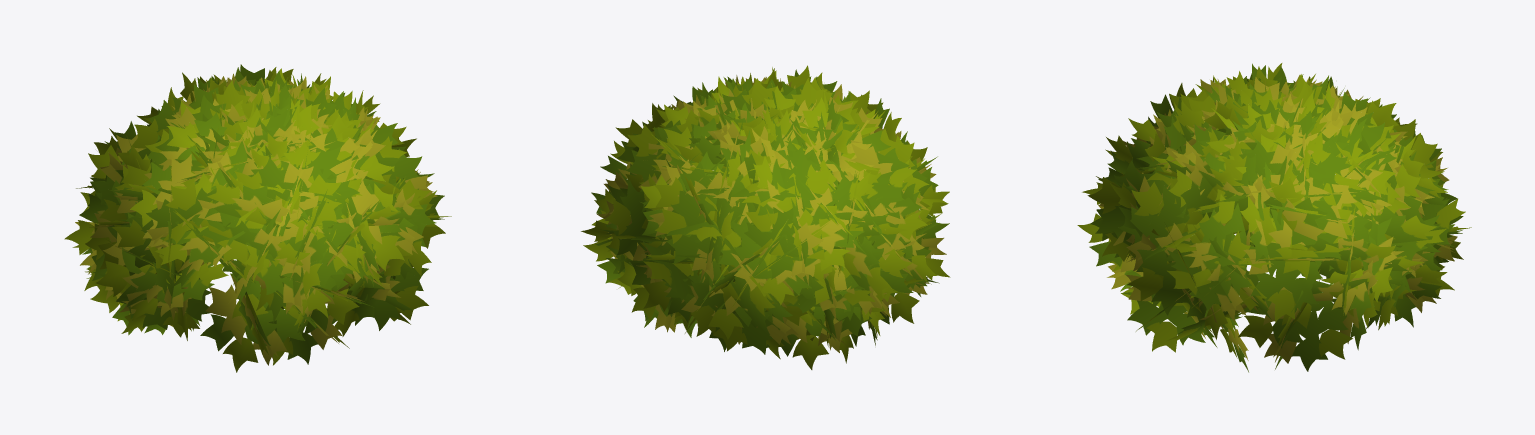
The model's file is Bush.fbx.
The picture shows the model from 3 angles, left to right: view 1: azimuth 30°, elevation 25°; view 2: azimuth 150°, elevation 25°; view 3: azimuth 270°, elevation 25°; orthographic projection. The views are drawn at different scales.
Visible parts, largest first — view 1: Bush; view 2: Bush; view 3: Bush.
Boxes of the visible parts, x1,y1,x2,y2 form: Bush: [64, 64, 451, 372]; Bush: [581, 65, 950, 369]; Bush: [1077, 63, 1471, 372].
Bounding box in the file's own units: 2.51 × 1.91 × 2.59.
